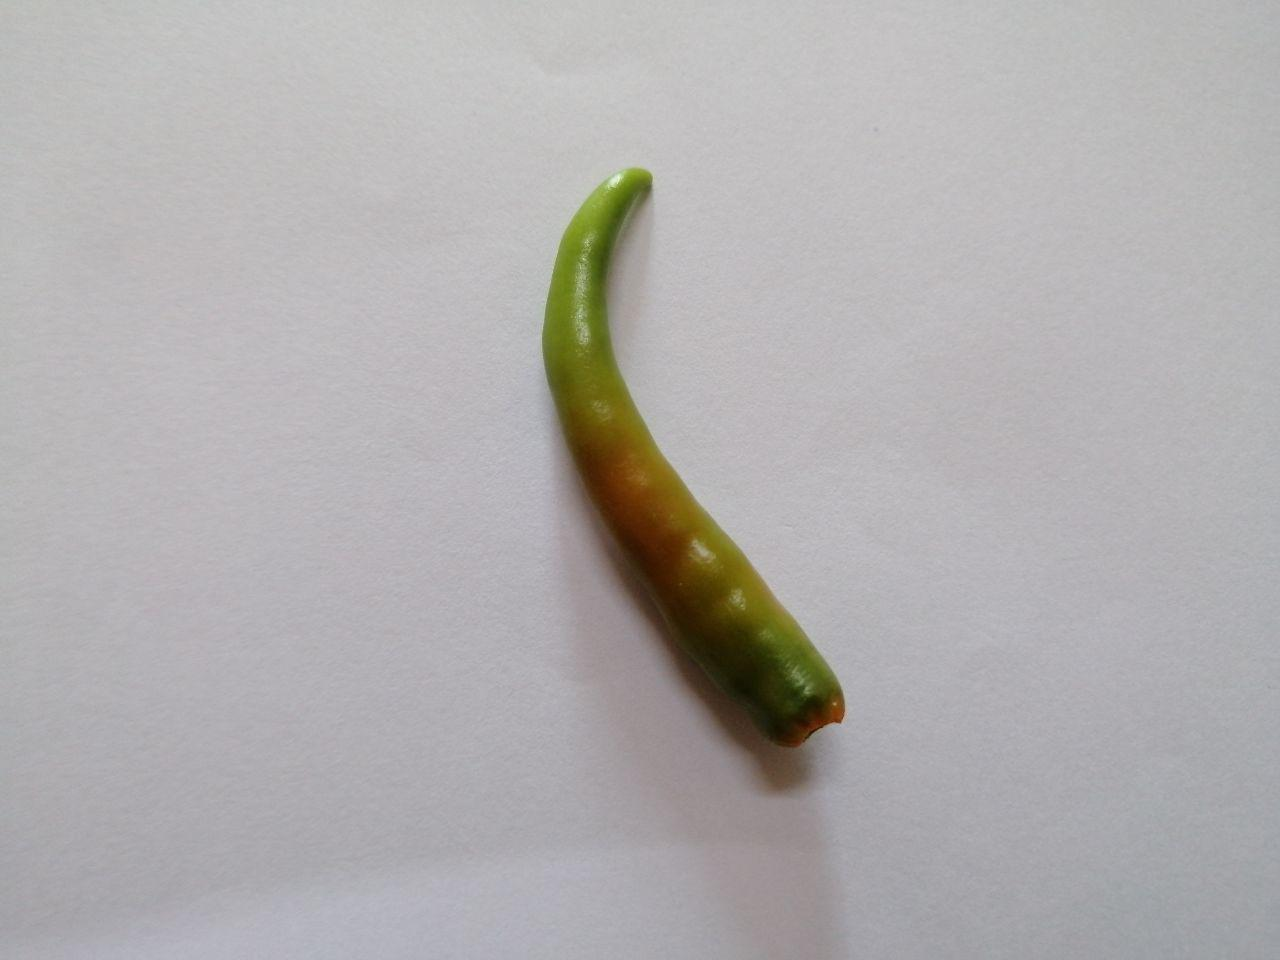lada kuning: (530, 140, 872, 774)
